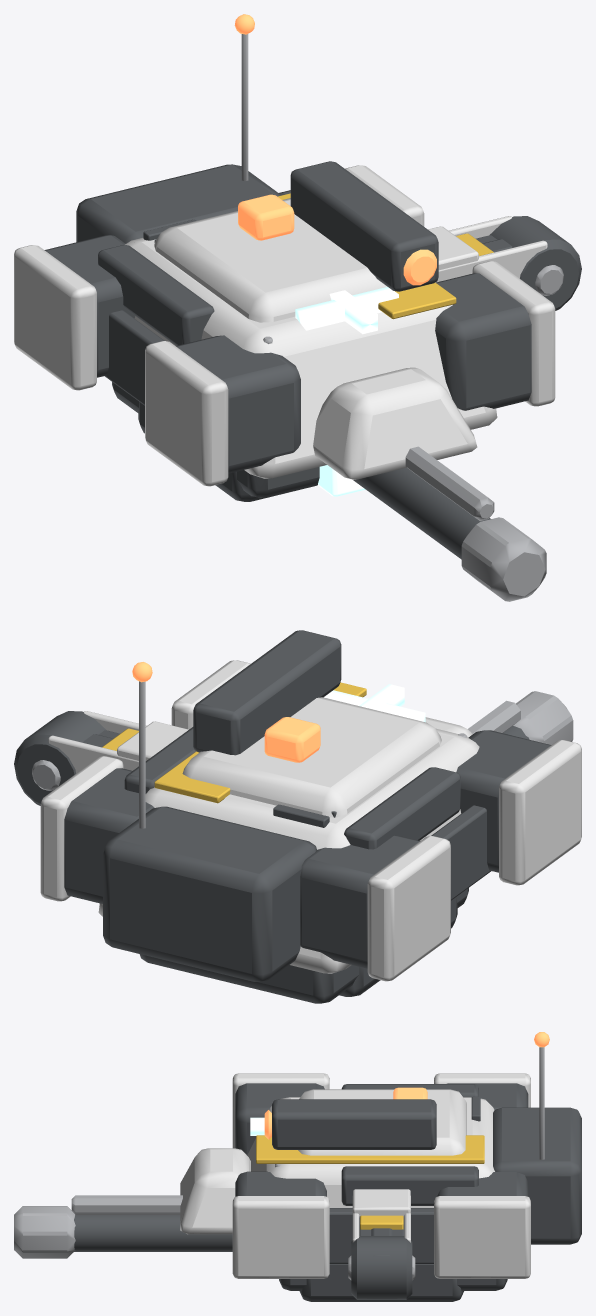
File: rifle.glb
The picture shows the model from 3 angles, top to bottom: view 1: azimuth 30°, elevation 25°; view 2: azimuth 150°, elevation 25°; view 3: azimuth 270°, elevation 25°; orthographic projection. The views are drawn at different scales.
Visible parts, largest first — view 1: Hull, Turret, Barrel, LegUpper; view 2: Hull, Turret, LegUpper, Barrel, LegLower; view 3: Hull, Turret, Barrel, LegUpper, LegLower.
Boxes of the visible parts, left/top/right/bottom form: Hull: left=14, top=14, right=555, bottom=501; Turret: left=154, top=161, right=438, bottom=330; Barrel: left=317, top=446, right=546, bottom=601; LegUpper: left=428, top=216, right=581, bottom=310; Hull: left=40, top=660, right=581, bottom=1003; Turret: left=182, top=630, right=441, bottom=817; LegUpper: left=14, top=711, right=188, bottom=805; Barrel: left=468, top=691, right=573, bottom=744; LegLower: left=36, top=723, right=138, bottom=750; Hull: left=180, top=1032, right=581, bottom=1301; Turret: left=264, top=1089, right=466, bottom=1155; Barrel: left=14, top=1195, right=232, bottom=1258; LegUpper: left=348, top=1189, right=415, bottom=1299; LegLower: left=360, top=1215, right=403, bottom=1298.
Size of the model in its own units: 0.7095 by 0.504 by 0.9933.
